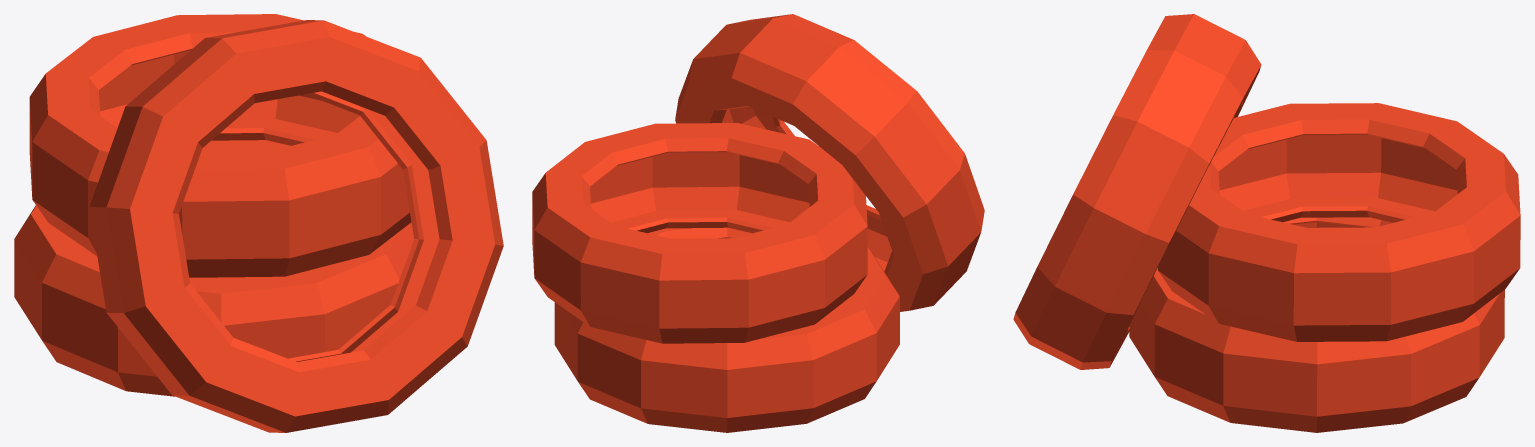
The model's file is SM_Tire_Pile_City.fbx.
3 views of the same model, side by side, from view 1: azimuth 30°, elevation 25°; view 2: azimuth 150°, elevation 25°; view 3: azimuth 270°, elevation 25° (orthographic). The views are drawn at different scales.
Parts seen in each view (by area): view 1: SM_Tire_Pile_City; view 2: SM_Tire_Pile_City; view 3: SM_Tire_Pile_City.
Boxes of the visible parts, x1,y1,x2,y2 form: SM_Tire_Pile_City: [14, 14, 503, 432]; SM_Tire_Pile_City: [532, 14, 984, 432]; SM_Tire_Pile_City: [1013, 14, 1520, 432].
Size of the model in its own units: 0.8267 by 0.7145 by 1.01.
